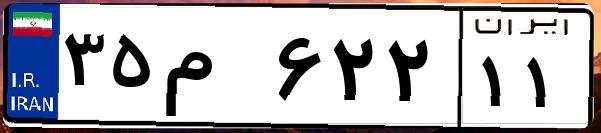1: (475, 38, 525, 113), (525, 38, 570, 115)
2: (385, 28, 445, 110), (330, 28, 385, 110)
3: (57, 26, 110, 100)
5: (110, 28, 158, 98)
6: (270, 28, 330, 110)
م: (158, 20, 270, 120)
